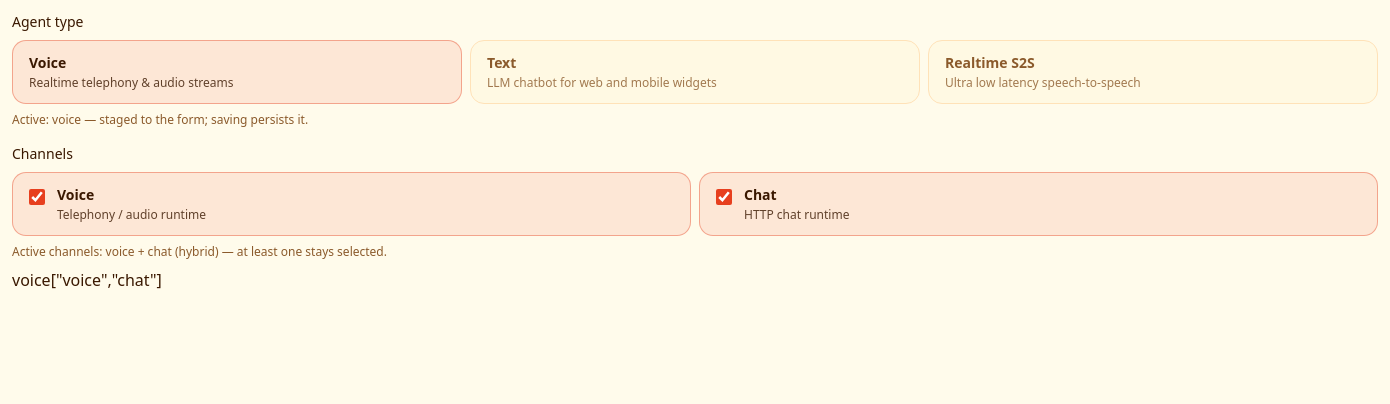
Test: ChannelSwitcher › shows the staged banner on divergence and hides it when back in sync
Click the button with aria-label "Text agent type".
click(695, 72)  # box [470,40,920,104]
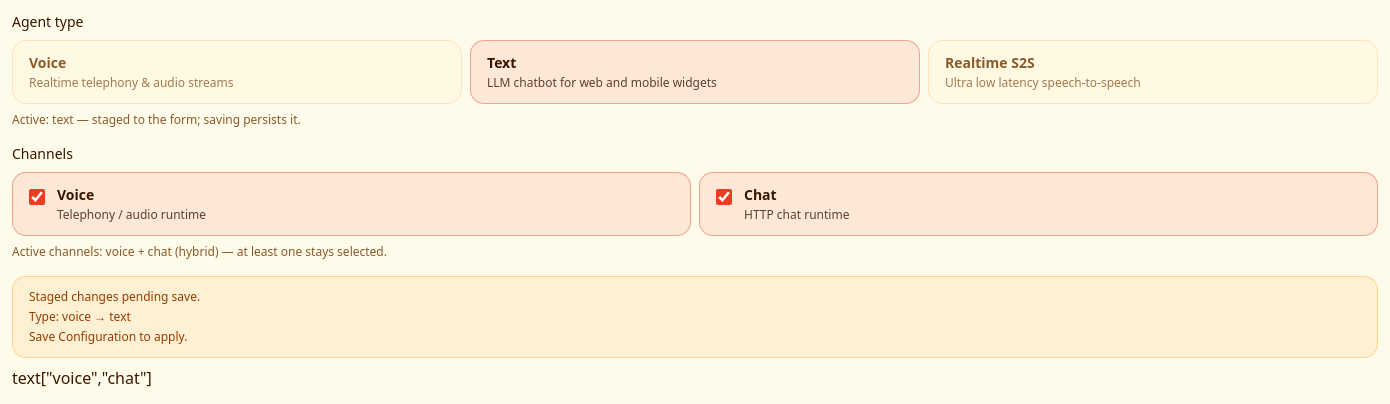
Check: the message shows "Staged changes pending save.", box [29,288,200,305]
Check: the message shows "Type: voice → text", box [12,276,1378,358]
Click the button with aria-label "Voice agent type".
click(48, 62)  # box [12,40,462,104]
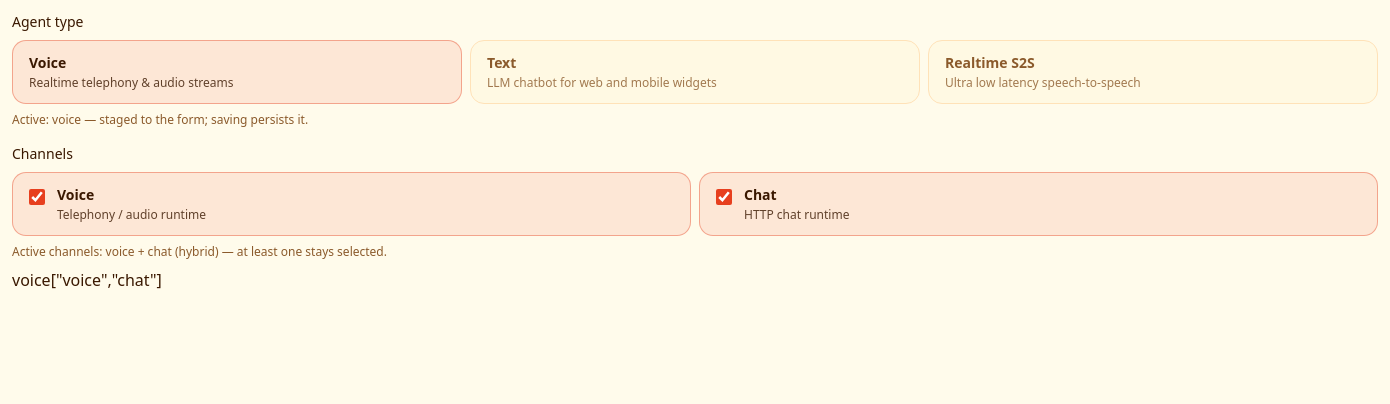
Check: the message "Staged changes pending save. Type: voice → text Save Configuration to apply." is gone
Channels divergence stages the banner on its own.
Click the checkbox named "Chat channel".
click(724, 197)  # box [716,189,732,205]
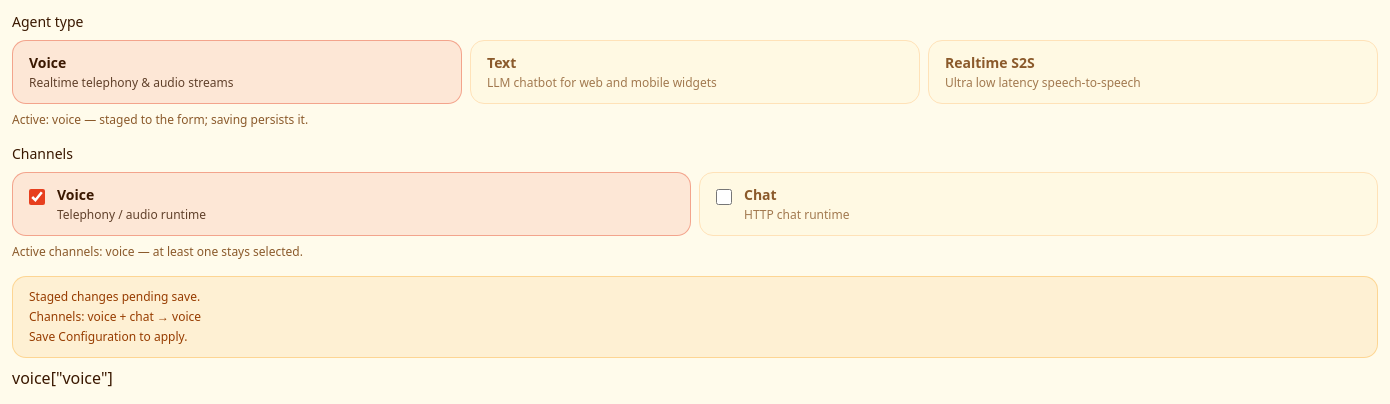
Check: the message shows "Staged changes pending save.", box [29,288,200,305]
Check: the message shows "Channels: voice + chat → voice", box [12,276,1378,358]
